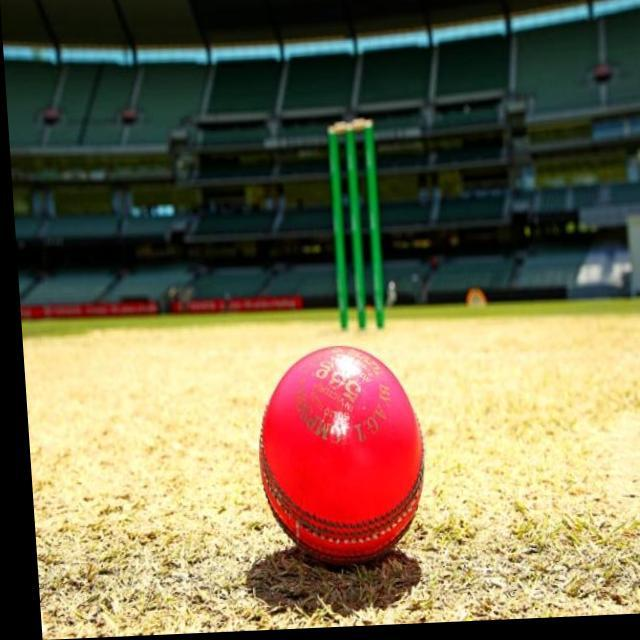cricket ball: (252, 347, 419, 569)
